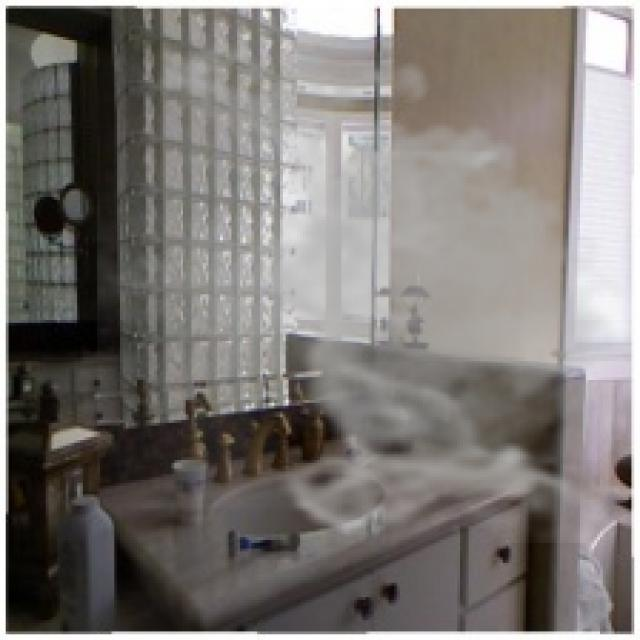smoke: (97, 28, 637, 543)
